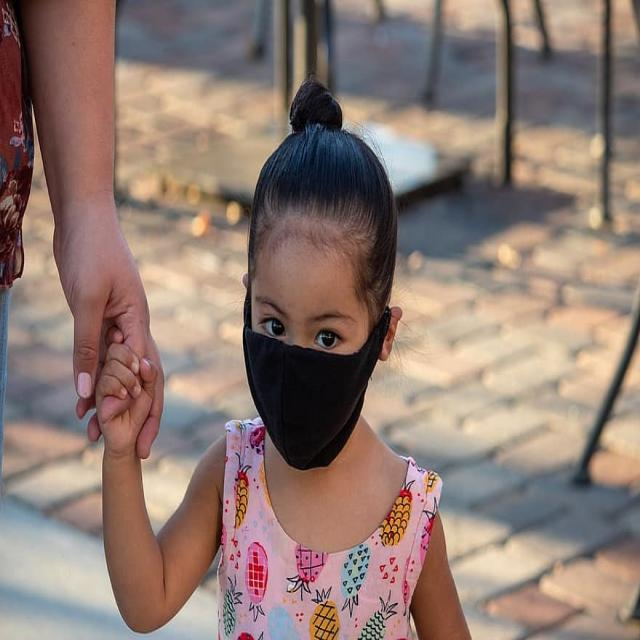1_mascarilla: (243, 352, 382, 467)
